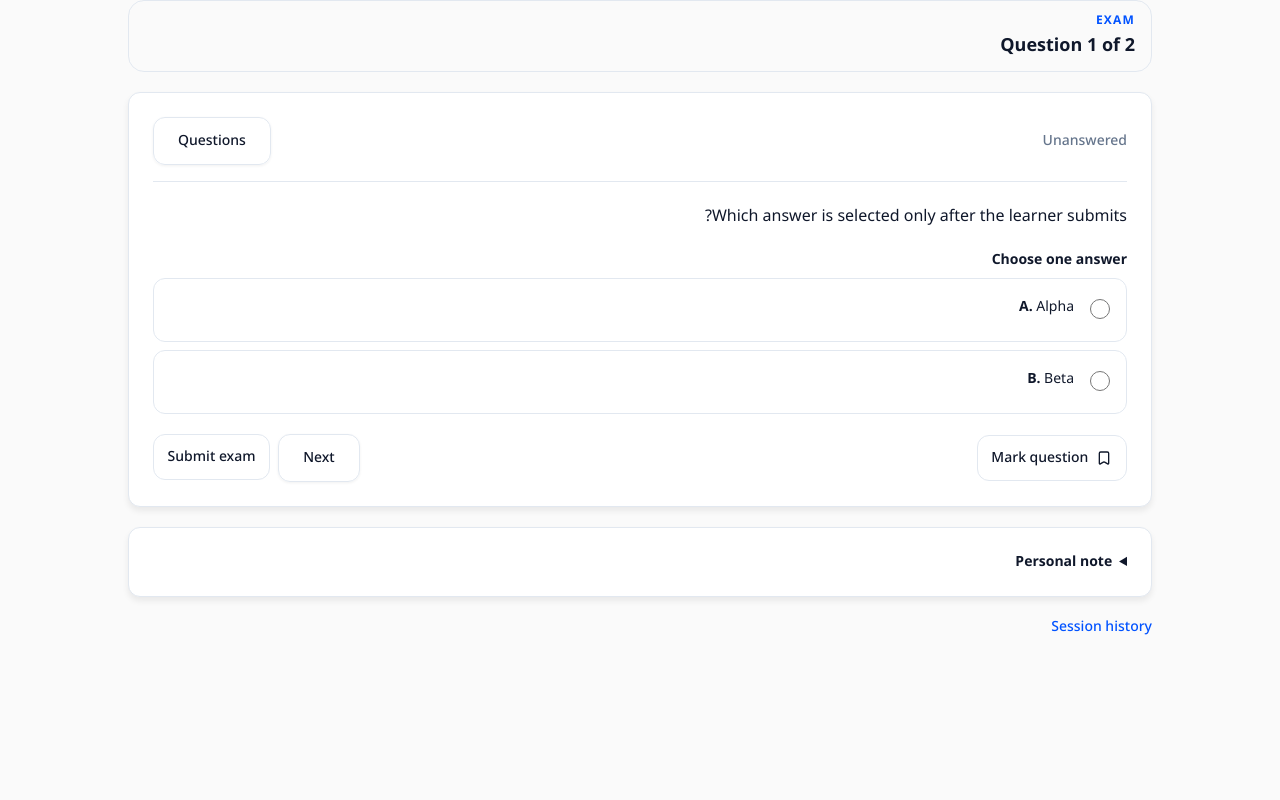
Teaching learner pages › clears the saved-note indication when the draft changes and clears saved and draft note state together
This screenshot has width=1280, height=800.
Expected: the text "Which answer is selected only after the learner submits?" is shown, left=705, top=199, right=1127, bottom=233
Click the heading "Personal note": coordinates (1064, 562) left=1015, top=547, right=1112, bottom=576
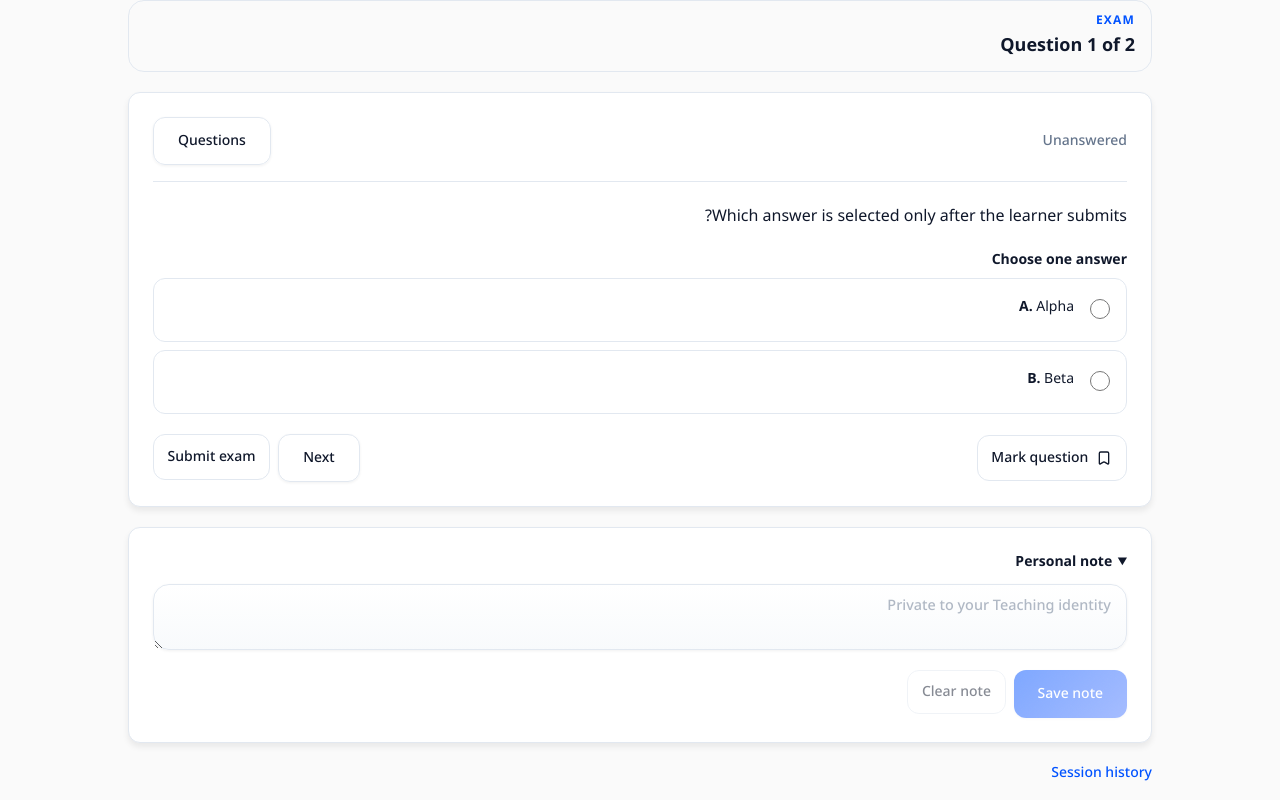
In the text box named "Personal note": coordinates (640, 617) left=153, top=584, right=1127, bottom=650, type "Persisted private note"
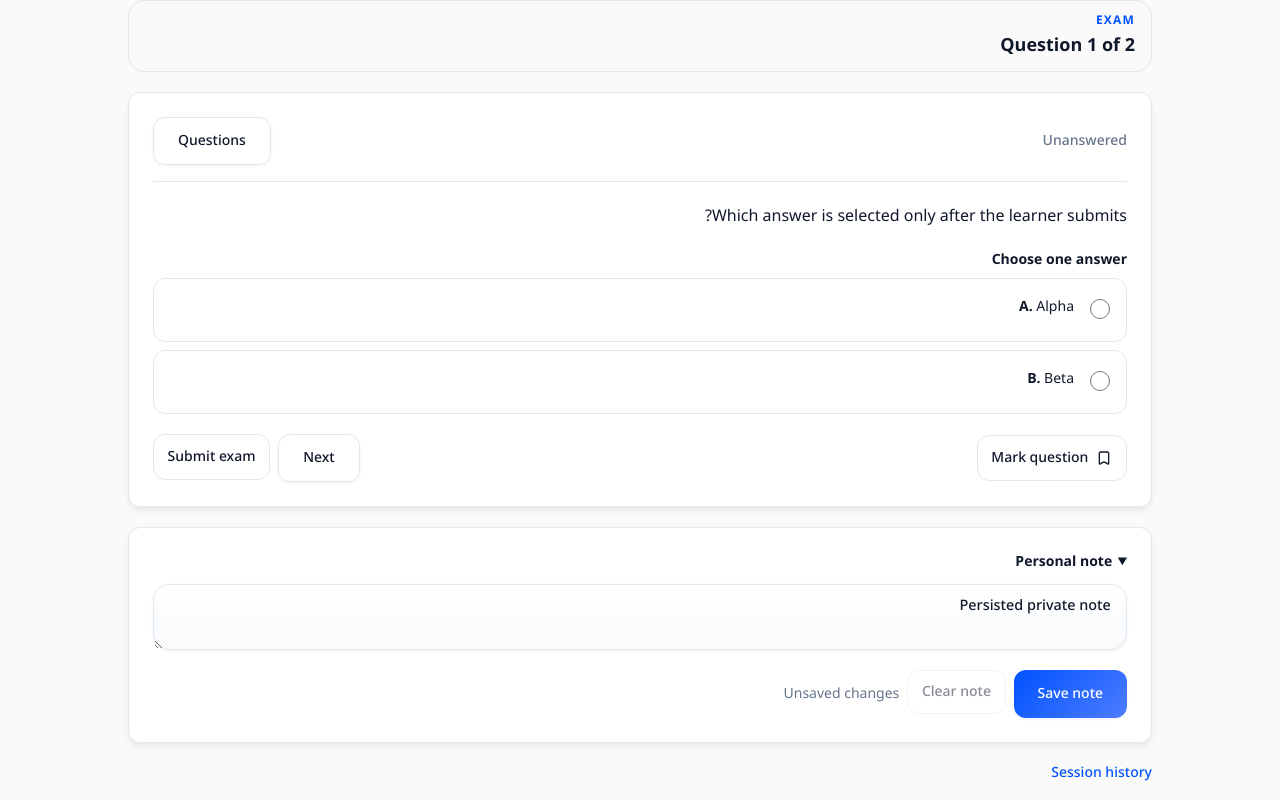
Click the button "Save note": coordinates (1070, 694) left=1014, top=670, right=1127, bottom=718
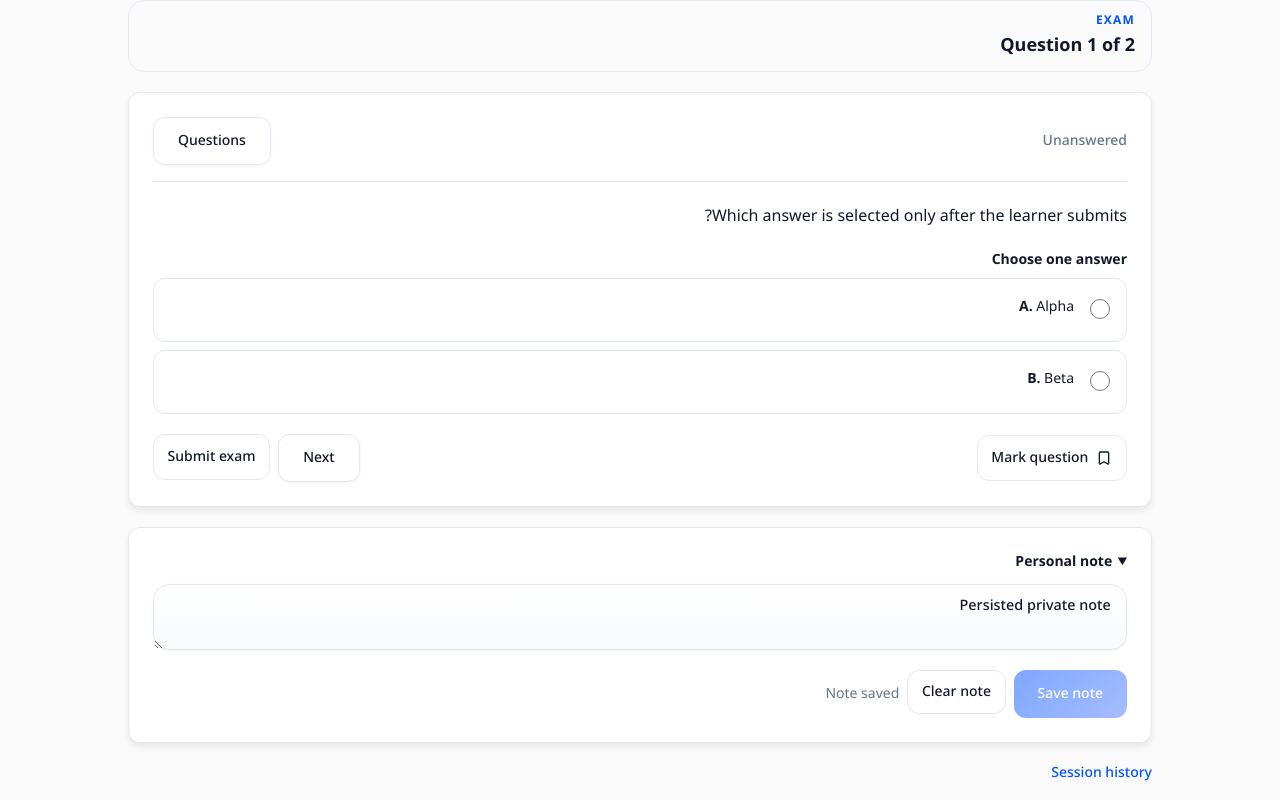
Expected: the text "Note saved" is shown, left=825, top=684, right=899, bottom=704
Replace the text in the text box named "Personal note" with "Edited but not saved": coordinates (640, 617) left=153, top=584, right=1127, bottom=650
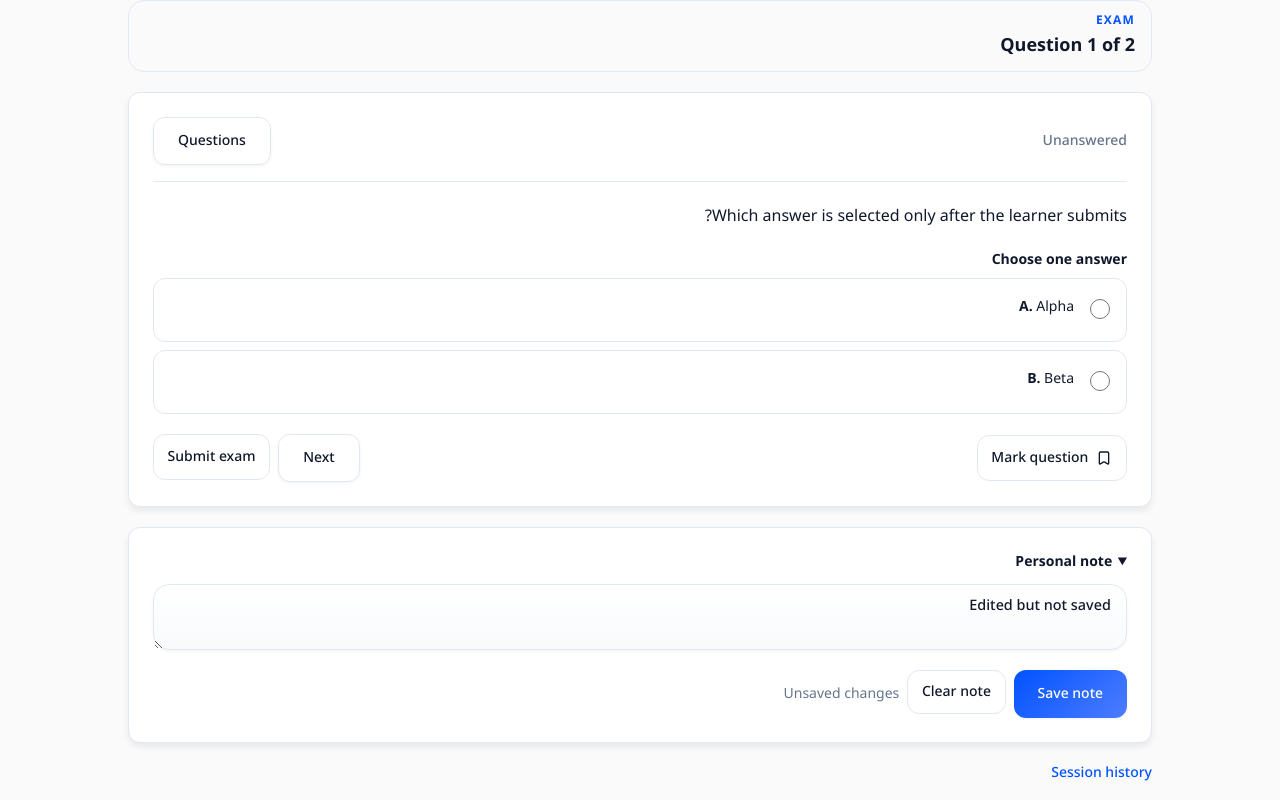
Expected: the text "Note saved" is gone
Expected: the message reads "Unsaved changes", left=784, top=679, right=899, bottom=708
Click the button "Clear note": coordinates (956, 692) left=907, top=670, right=1006, bottom=714
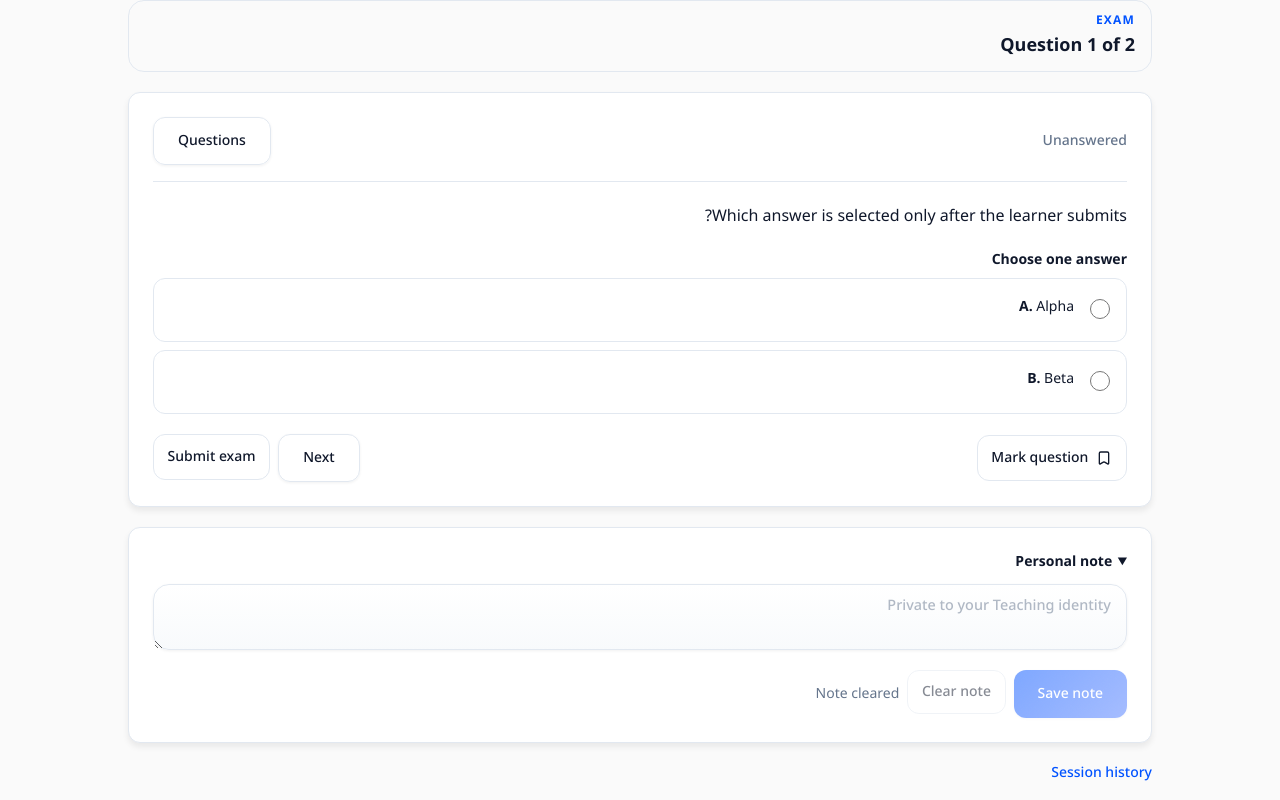
Expected: the text "Note cleared" is shown, left=816, top=684, right=899, bottom=704
Expected: the text box named "Personal note" is empty, left=153, top=584, right=1127, bottom=650
